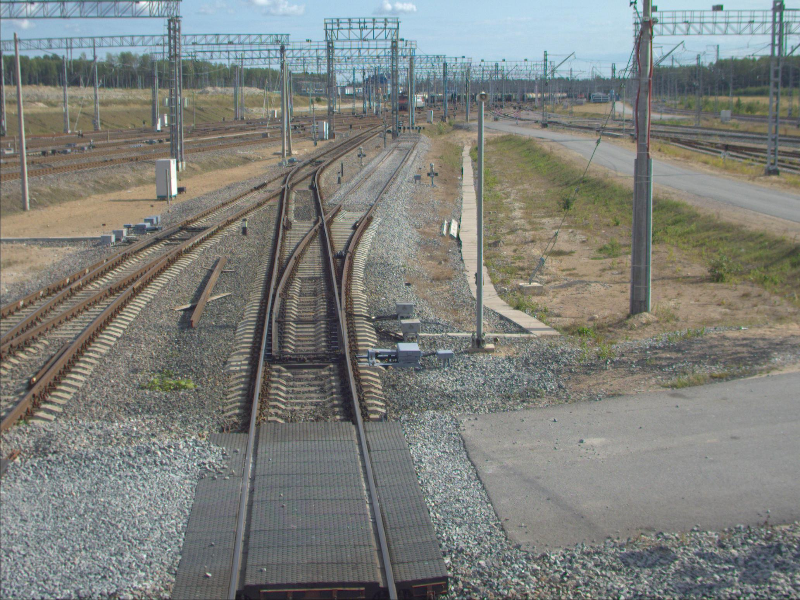left: (261, 312, 352, 356)
